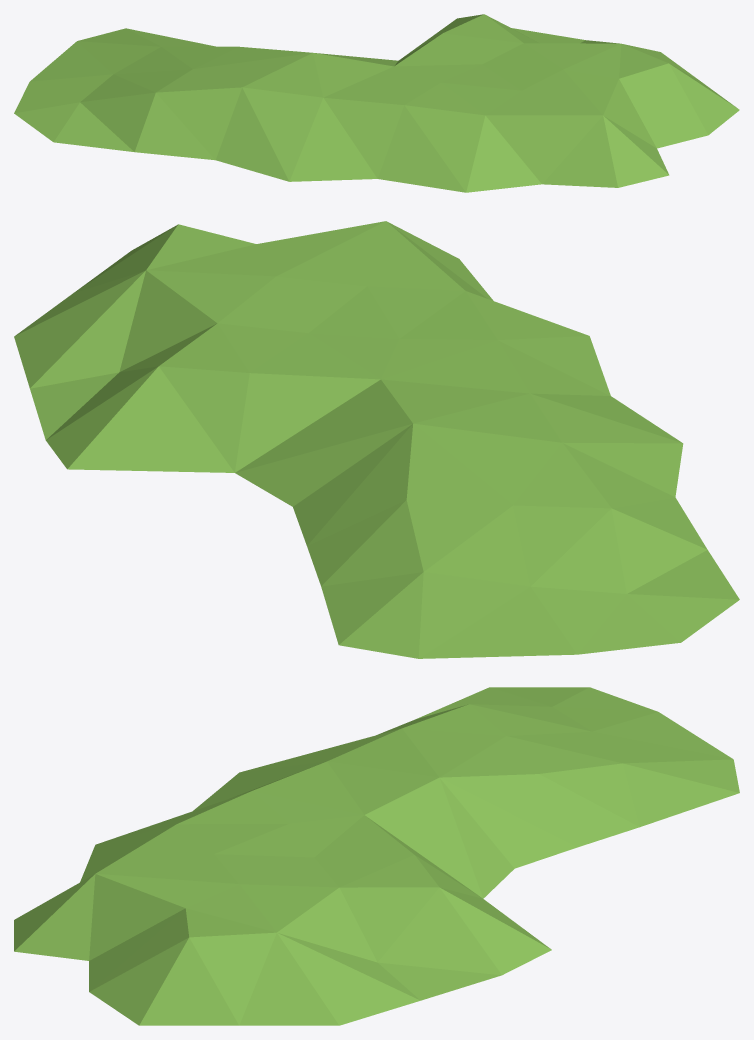
File: MT_Mountain_S_c_10_LOD.fbx
3 renders of one model, top to bottom at view 1: azimuth 30°, elevation 25°; view 2: azimuth 150°, elevation 25°; view 3: azimuth 270°, elevation 25°, orthographic. The views are drawn at different scales.
Visible parts, largest first — view 1: MT_Mountain_S_c_10_LOD0; view 2: MT_Mountain_S_c_10_LOD0; view 3: MT_Mountain_S_c_10_LOD0.
Part boxes in pixels (x1,y1,x2,y2): MT_Mountain_S_c_10_LOD0: (14,14,739,192); MT_Mountain_S_c_10_LOD0: (14,221,739,658); MT_Mountain_S_c_10_LOD0: (14,687,739,1025).
Size of what is drawn, in the model's own units: 2500 by 207 by 2266.
